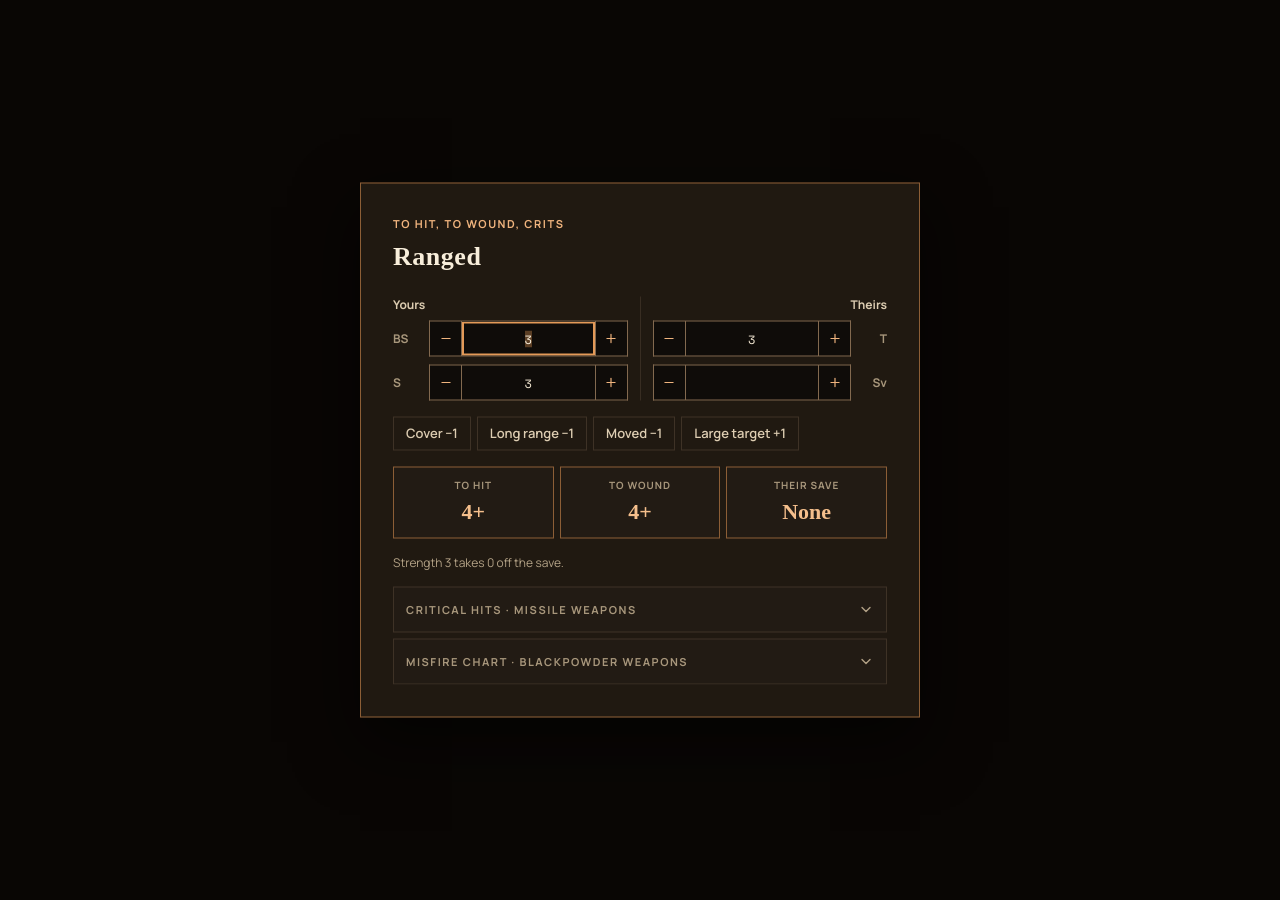
Test: the Misfire chart (William, 24 Nov 2026) › sits in Ranged under the missile critical hits, minimised like them
The image size is (1280, 900).
Click the button "Misfire chart · Blackpowder Weapons": x=640, y=662 [394,640,886,684]
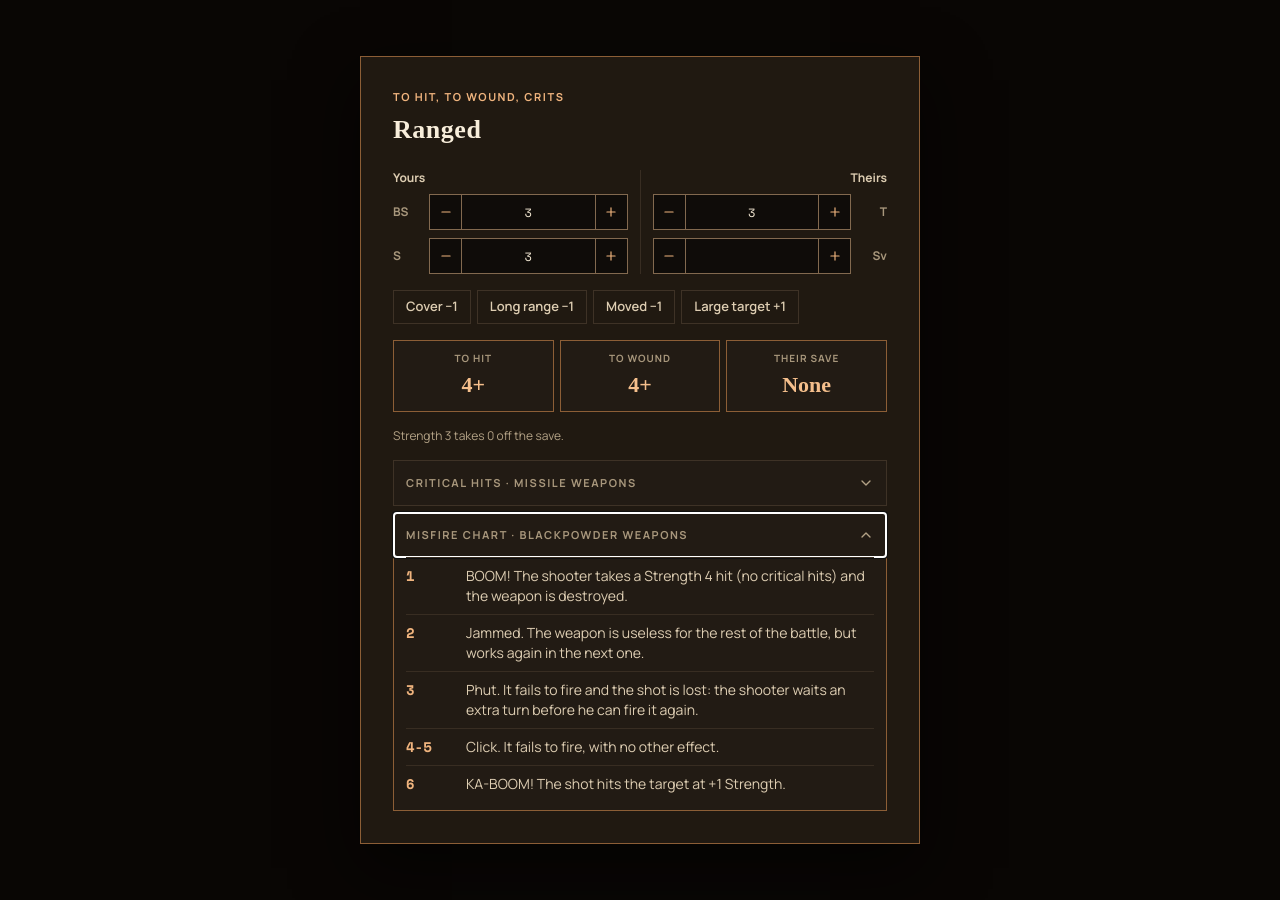
Now the text "KA-BOOM! The shot hits the target at +1 Strength." is shown, box [466,774,786,793]
